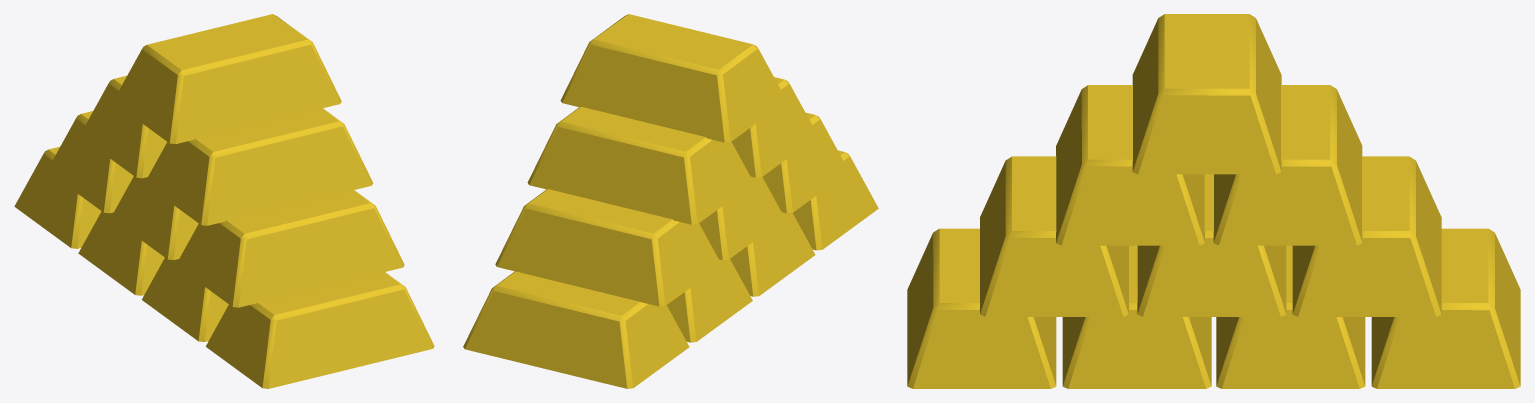
Rendered from gold4.fbx.
3 views of the same model, side by side, from view 1: azimuth 30°, elevation 25°; view 2: azimuth 150°, elevation 25°; view 3: azimuth 270°, elevation 25° (orthographic). The views are drawn at different scales.
Parts seen in each view (by area): view 1: pCube11; view 2: pCube11; view 3: pCube11.
Part boxes in pixels (x1,y1,x2,y2): pCube11: (14,14,434,388); pCube11: (463,14,878,388); pCube11: (907,14,1520,388).
Size of the model in its own units: 35.81 by 46.98 by 91.03.
